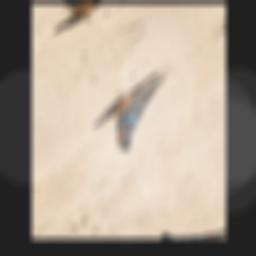Swallow: (102, 62, 189, 157)
